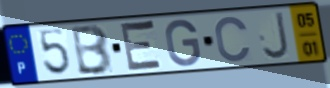5: (37, 27, 74, 77)
B: (71, 23, 115, 76)
C: (213, 14, 253, 64)
E: (119, 18, 166, 74)
G: (164, 18, 203, 68)
J: (260, 10, 292, 62)
